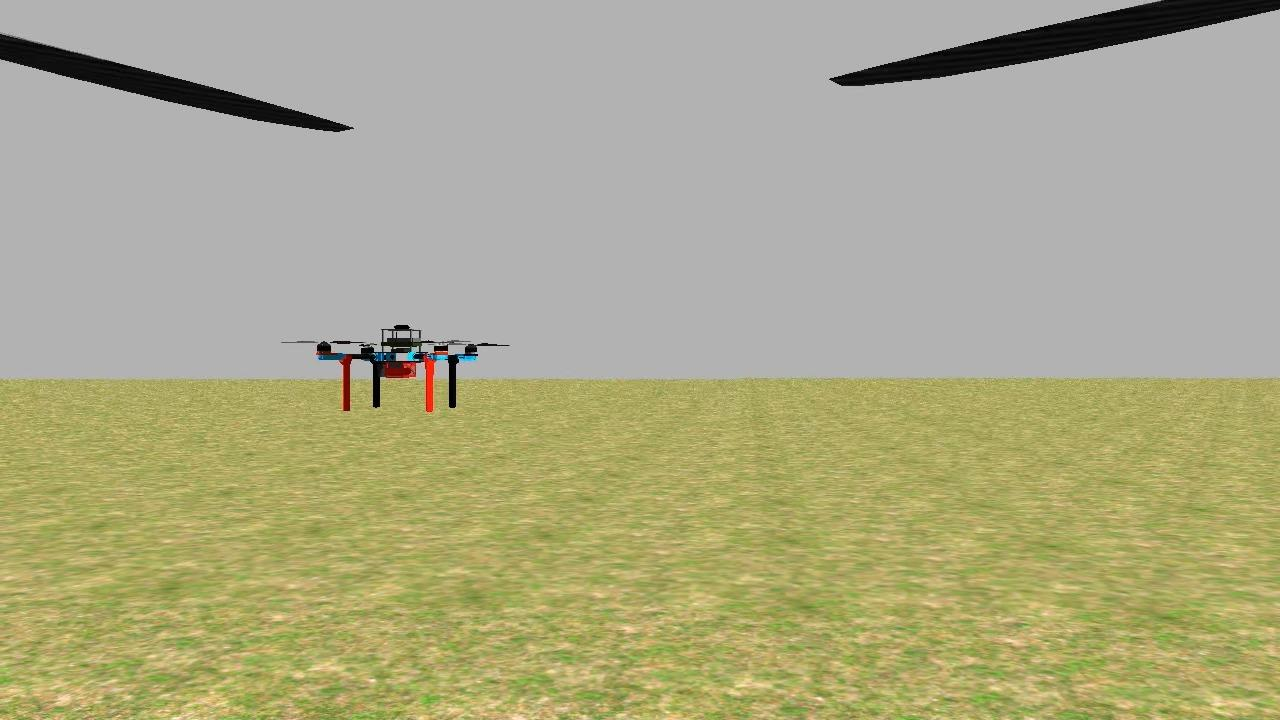UAV: (309, 310, 489, 425)
